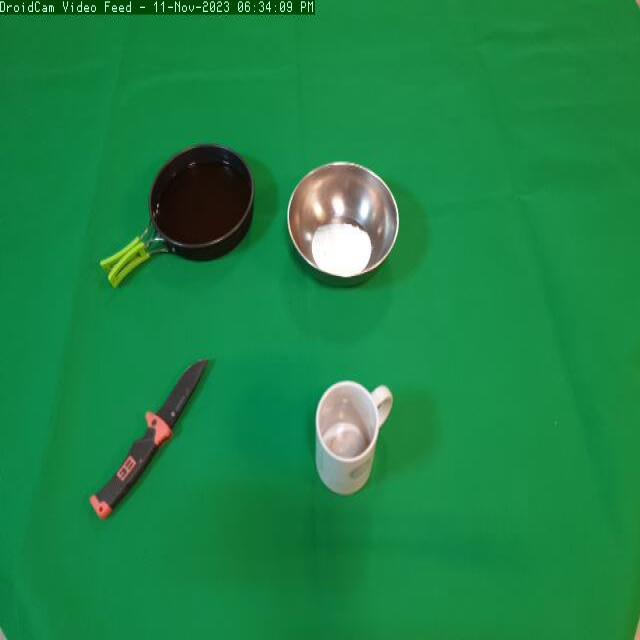bowl: (288, 159, 402, 292)
cup: (309, 370, 399, 514)
fullpan: (92, 135, 262, 302)
knife: (87, 345, 221, 536)
